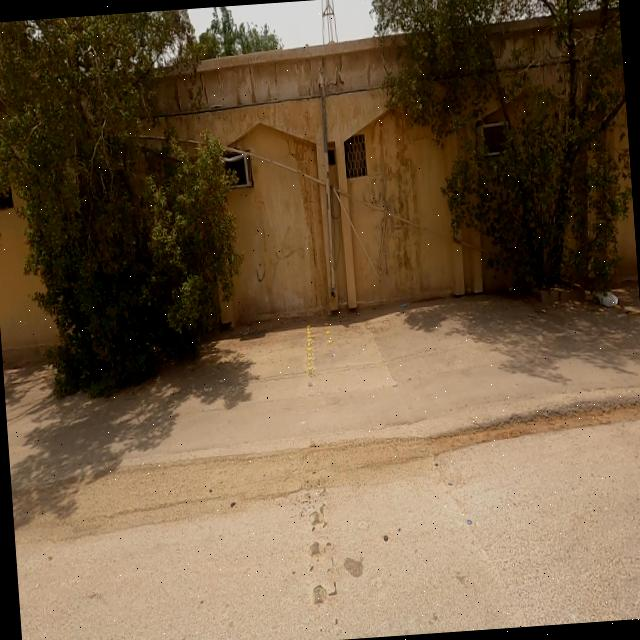Graffiti: (252, 223, 304, 286)
